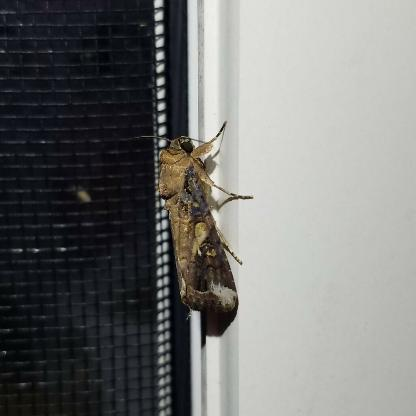Fall Armyworm Moth: (126, 119, 256, 315)
